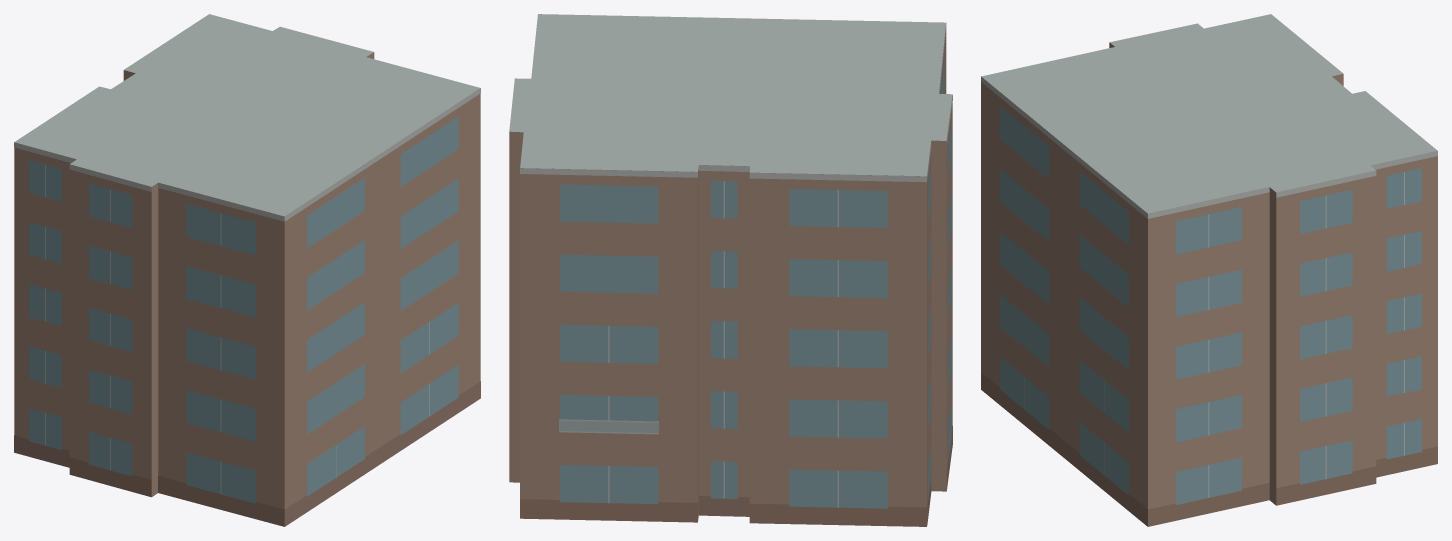
The model's file is survey-upis-32841264.glb.
3 views of the same model, side by side, from view 1: azimuth 30°, elevation 25°; view 2: azimuth 150°, elevation 25°; view 3: azimuth 270°, elevation 25° (orthographic). The views are drawn at different scales.
Visible parts, largest first — view 1: survey-upis-32841264.tmp; view 2: survey-upis-32841264.tmp; view 3: survey-upis-32841264.tmp.
Part boxes in pixels (x1,y1,x2,y2): survey-upis-32841264.tmp: (14,14,480,526); survey-upis-32841264.tmp: (509,14,952,526); survey-upis-32841264.tmp: (981,14,1437,526).
Bounding box in the file's own units: 19.77 × 14.45 × 19.11.
